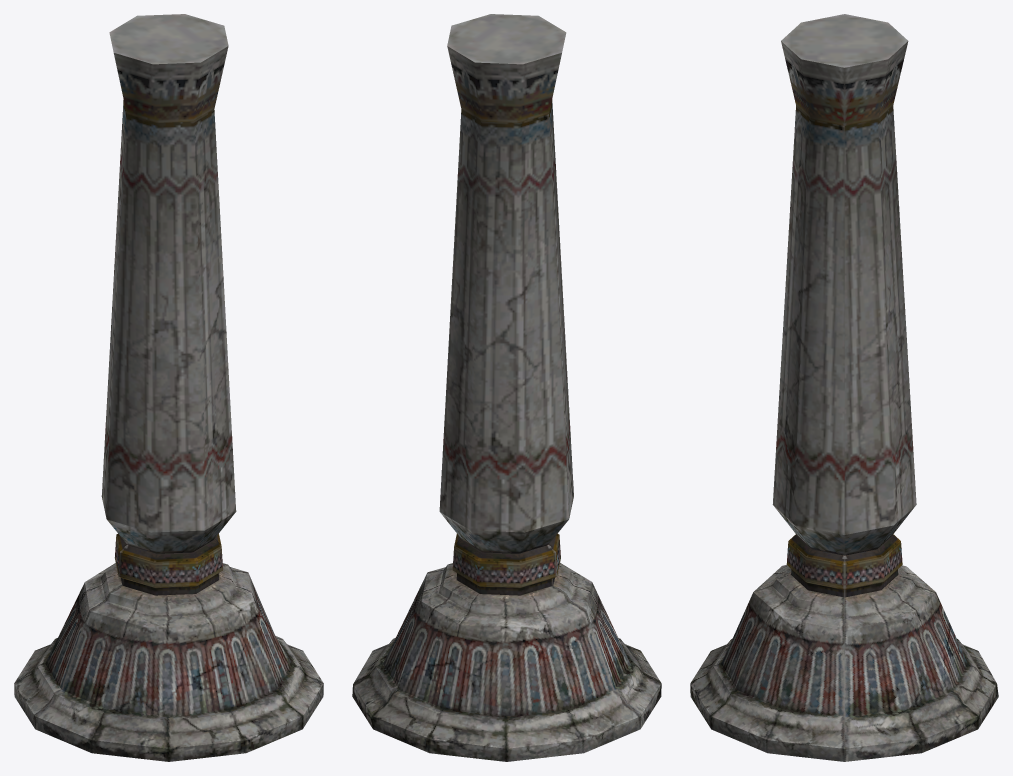
Rendered from SM_EN_2010_shizhuzi06.FBX.
3 renders of one model, left to right at view 1: azimuth 30°, elevation 25°; view 2: azimuth 150°, elevation 25°; view 3: azimuth 270°, elevation 25°, orthographic.
Visible parts, largest first — view 1: SM_EN_2010_shizhuzi06; view 2: SM_EN_2010_shizhuzi06; view 3: SM_EN_2010_shizhuzi06.
Part boxes in pixels (x1,y1,x2,y2): SM_EN_2010_shizhuzi06: (14,14,323,761); SM_EN_2010_shizhuzi06: (352,14,661,761); SM_EN_2010_shizhuzi06: (690,14,998,761).
Size of the model in its own units: 101 by 237 by 101.
